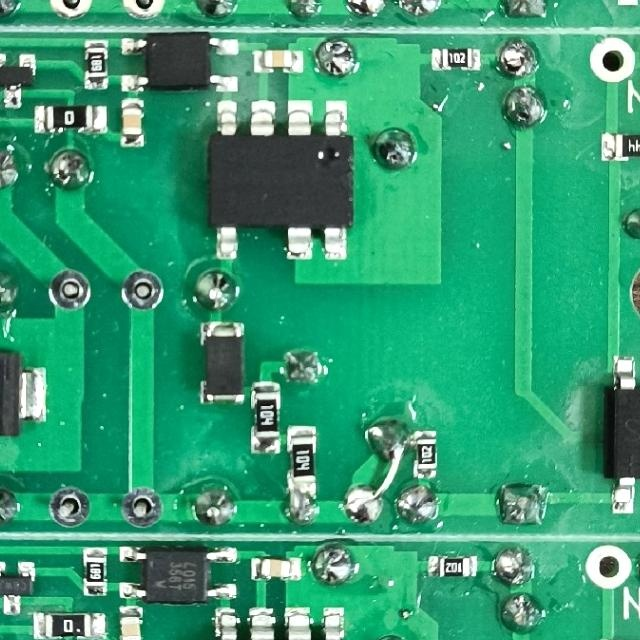chip-capacitor: (120, 97, 146, 149), (250, 556, 304, 581), (251, 49, 305, 74), (118, 604, 144, 640)
chip-resistor: (251, 380, 283, 455), (33, 103, 110, 134), (30, 610, 108, 640), (286, 423, 317, 492), (82, 37, 110, 92), (81, 544, 109, 599), (425, 553, 481, 579), (430, 46, 483, 73), (597, 130, 640, 163), (412, 428, 439, 479)
diode: (198, 320, 248, 406)
ic: (207, 97, 355, 261), (118, 31, 241, 94), (117, 543, 241, 604)
transistor: (0, 52, 39, 110), (0, 559, 37, 616)
